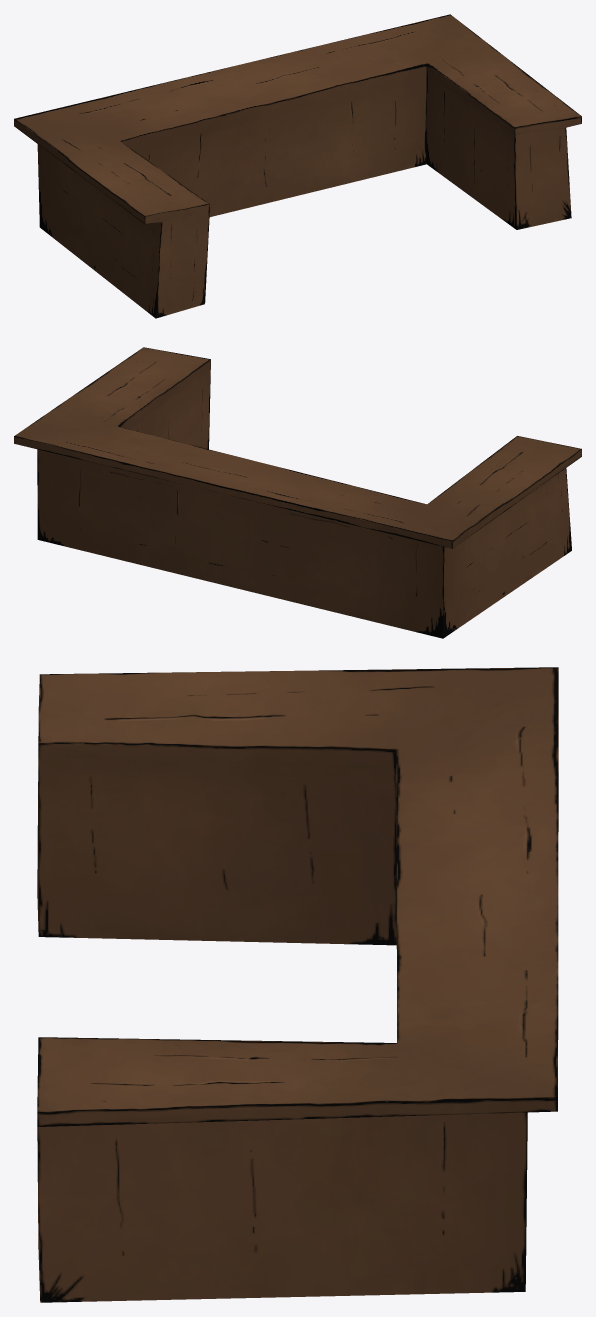
Rendered from Reception.fbx.
The picture shows the model from 3 angles, top to bottom: view 1: azimuth 30°, elevation 25°; view 2: azimuth 150°, elevation 25°; view 3: azimuth 270°, elevation 25°; orthographic projection. The views are drawn at different scales.
Parts seen in each view (by area): view 1: Reception; view 2: Reception; view 3: Reception.
Boxes of the visible parts, bbox=[...] form: Reception: bbox=[14, 14, 581, 318]; Reception: bbox=[14, 347, 581, 638]; Reception: bbox=[37, 667, 558, 1302].
Size of the model in its own units: 393 by 93.54 by 203.
Materials: 1 (1 with a texture image).
